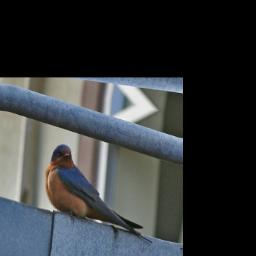Swallow: (39, 141, 163, 244)
